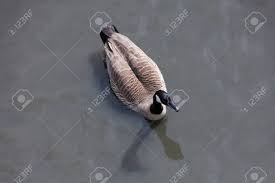goose: (94, 20, 179, 132)
